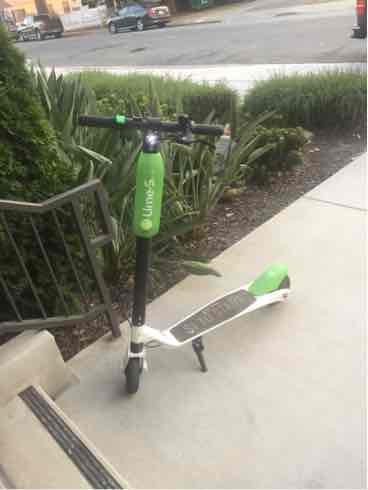scooter: (75, 108, 305, 403)
